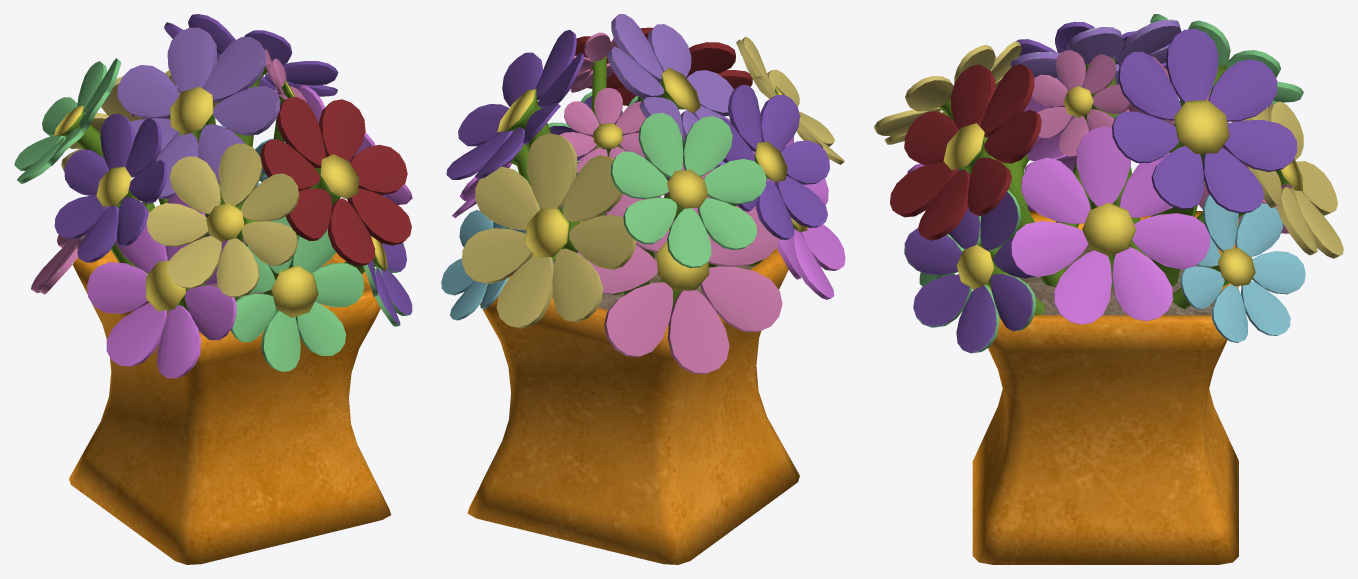
File: FloorPlant_5_C.glb
3 renders of one model, left to right at view 1: azimuth 30°, elevation 25°; view 2: azimuth 150°, elevation 25°; view 3: azimuth 270°, elevation 25°, orthographic. The views are drawn at different scales.
Visible parts, largest first — view 1: 5_Pot_low.001, 5_Petals3_low.003, 5_Petals1_low.005, 5_Petals3_low.004, 5_Petals2_low.001, 5_Petals1_low.003, 5_Petals1_low.002, 5_Petals1_low.004, 5_Petals4_low.003, 5_Petals1_low.001, 5_Stem5_low.003, 5_Stem5_low.009 (+9 smaller); view 2: 5_Pot_low.001, 5_Petals3_low.002, 5_Petals3_low.001, 5_Petals1_low.004, 5_Petals1_low.003, 5_Petals4_low.003, 5_Petals3_low.004, 5_Petals1_low.007, 5_Petals2_low.001, 5_Petals4_low.001, 5_Petals1_low.005, 5_Petals3_low.003 (+11 smaller); view 3: 5_Pot_low.001, 5_Petals4_low.002, 5_Petals4_low.003, 5_Petals3_low.003, 5_Petals1_low.001, 5_Petals4_low.001, 5_Petals3_low.002, 5_Petals1_low.006, 5_Petals3_low.004, 5_Petals1_low.005, 5_Stem5_low.012, 5_Stem5_low.013 (+9 smaller).
Part boxes in pixels (bbox=[...]): 5_Pot_low.001: bbox=[69, 221, 390, 564]; 5_Petals3_low.003: bbox=[260, 96, 411, 266]; 5_Petals1_low.005: bbox=[146, 143, 299, 297]; 5_Petals3_low.004: bbox=[117, 27, 280, 198]; 5_Petals2_low.001: bbox=[87, 193, 236, 378]; 5_Petals1_low.003: bbox=[54, 113, 167, 262]; 5_Petals1_low.002: bbox=[230, 216, 364, 371]; 5_Petals1_low.004: bbox=[14, 58, 121, 183]; 5_Petals4_low.003: bbox=[164, 14, 338, 96]; 5_Petals1_low.001: bbox=[363, 194, 412, 326]; 5_Stem5_low.003: bbox=[263, 265, 318, 317]; 5_Stem5_low.009: bbox=[170, 86, 224, 237]; 5_Pot_low.001: bbox=[467, 221, 799, 564]; 5_Petals3_low.002: bbox=[462, 133, 636, 328]; 5_Petals3_low.001: bbox=[576, 162, 782, 374]; 5_Petals1_low.004: bbox=[610, 112, 766, 268]; 5_Petals1_low.003: bbox=[720, 85, 829, 239]; 5_Petals4_low.003: bbox=[446, 30, 584, 179]; 5_Petals3_low.004: bbox=[607, 14, 754, 168]; 5_Petals1_low.007: bbox=[559, 87, 646, 173]; 5_Petals2_low.001: bbox=[753, 136, 845, 299]; 5_Petals4_low.001: bbox=[441, 210, 526, 320]; 5_Petals1_low.005: bbox=[736, 37, 844, 164]; 5_Petals3_low.003: bbox=[574, 27, 752, 109]; 5_Pot_low.001: bbox=[972, 211, 1238, 564]; 5_Petals4_low.002: bbox=[1011, 126, 1209, 324]; 5_Petals4_low.003: bbox=[1112, 28, 1297, 213]; 5_Petals3_low.003: bbox=[890, 64, 1041, 240]; 5_Petals1_low.001: bbox=[904, 190, 1036, 353]; 5_Petals4_low.001: bbox=[1180, 194, 1305, 342]; 5_Petals3_low.002: bbox=[1232, 101, 1343, 258]; 5_Petals1_low.006: bbox=[1031, 50, 1130, 156]; 5_Petals3_low.004: bbox=[998, 19, 1181, 90]; 5_Petals1_low.005: bbox=[874, 41, 1021, 144]; 5_Stem5_low.012: bbox=[1149, 100, 1229, 286]; 5_Stem5_low.013: bbox=[1082, 202, 1136, 270].
Size of the model in its own units: 0.7351 by 0.9815 by 0.8492.
Materials: 1 (1 with a texture image).
